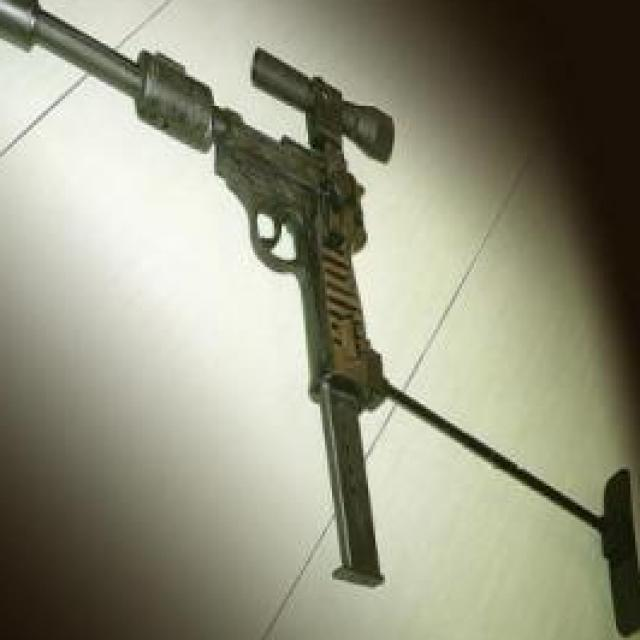pistol: (138, 53, 378, 403)
